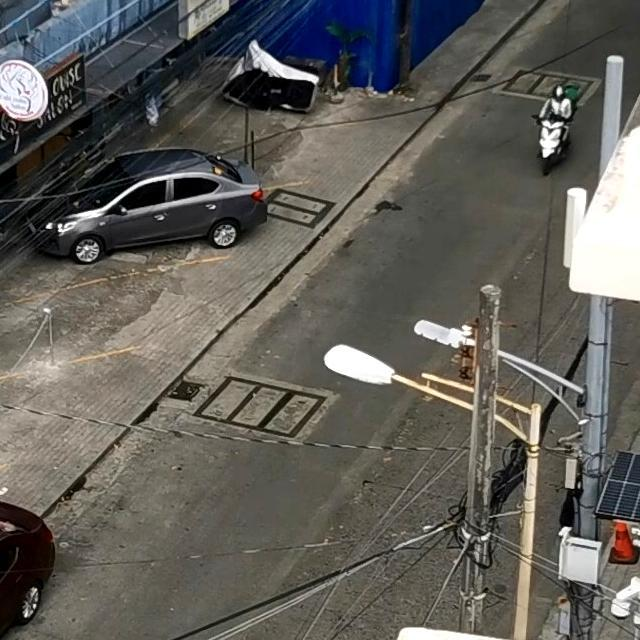Motorcycle: (528, 80, 594, 184)
